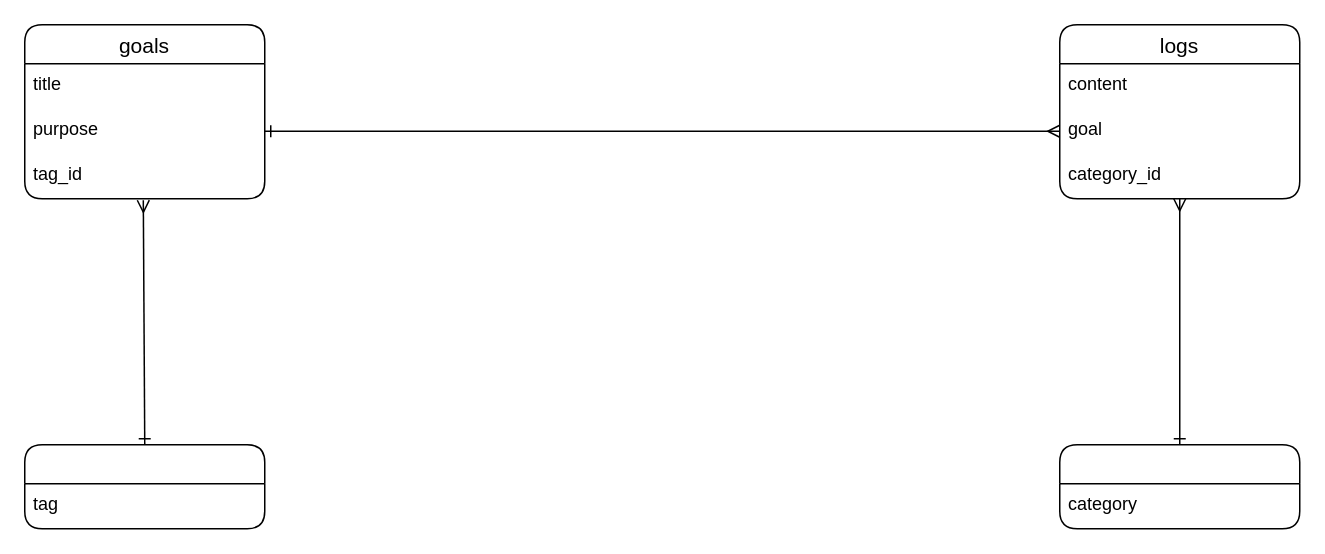
Some shapes in this 1325 by 554 pixel diagram are drawn without their labels. Each missing label, with the box of its shape:
category(active_hash): (1058, 443, 1300, 529)
tag(active_hash): (23, 443, 265, 529)
